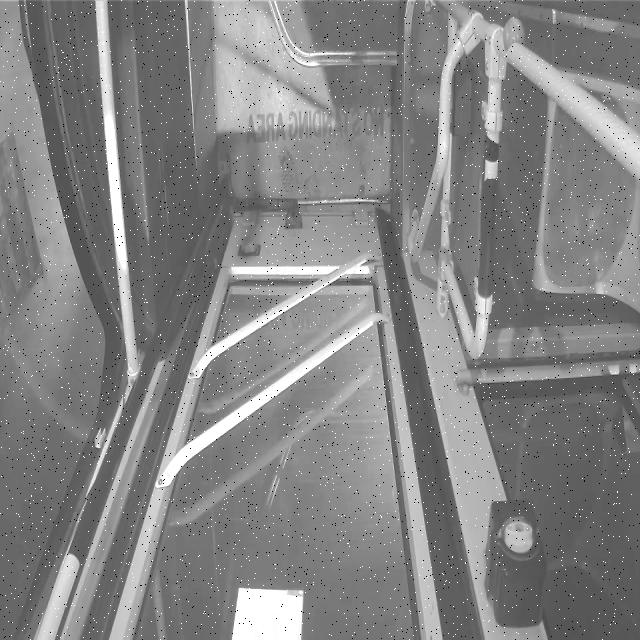close: (108, 209, 445, 639)
